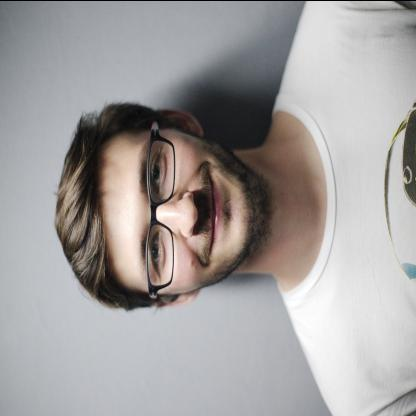Eye: (148, 233, 166, 276), (150, 148, 166, 193)
Mouth: (200, 170, 226, 254)
Nose: (156, 191, 200, 239)
